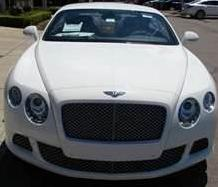front_view: (7, 75, 218, 181)
headlight: (6, 83, 50, 129)
